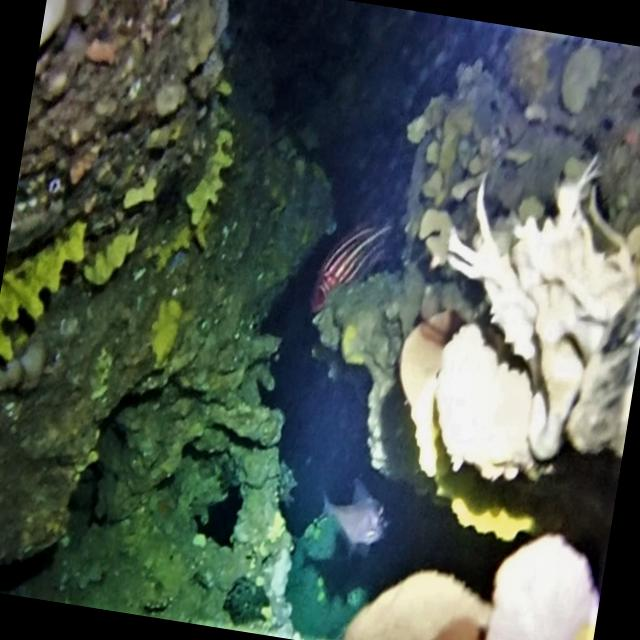Asker Baligi: (306, 208, 396, 328)
